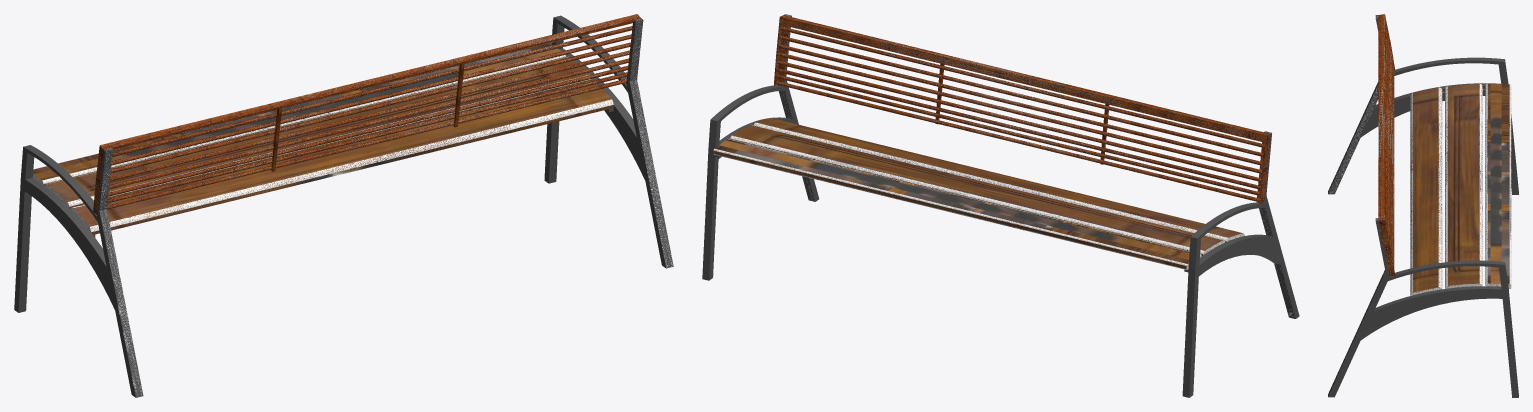
The picture shows the model from 3 angles, left to right: view 1: azimuth 30°, elevation 25°; view 2: azimuth 150°, elevation 25°; view 3: azimuth 270°, elevation 25°; orthographic projection. The views are drawn at different scales.
Parts seen in each view (by area): view 1: mesh2_mesh2-geometry, mesh3_mesh3-geometry, mesh7_mesh7-geometry, mesh4_mesh4-geometry, mesh6_mesh6-geometry, mesh8_mesh8-geometry, mesh5_mesh5-geometry, mesh1_mesh1-geometry; view 2: mesh2_mesh2-geometry, mesh5_mesh5-geometry, mesh3_mesh3-geometry, mesh6_mesh6-geometry, mesh7_mesh7-geometry, mesh4_mesh4-geometry, mesh8_mesh8-geometry; view 3: mesh2_mesh2-geometry, mesh5_mesh5-geometry, mesh4_mesh4-geometry, mesh6_mesh6-geometry, mesh7_mesh7-geometry, mesh8_mesh8-geometry.
Part boxes in pixels (x1=…): mesh2_mesh2-geometry: x1=14, y1=14, x2=673, y2=397; mesh3_mesh3-geometry: x1=112, y1=26, x2=632, y2=156; mesh7_mesh7-geometry: x1=108, y1=66, x2=628, y2=196; mesh4_mesh4-geometry: x1=110, y1=50, x2=629, y2=181; mesh6_mesh6-geometry: x1=111, y1=34, x2=631, y2=165; mesh8_mesh8-geometry: x1=109, y1=58, x2=628, y2=189; mesh5_mesh5-geometry: x1=110, y1=42, x2=630, y2=173; mesh1_mesh1-geometry: x1=271, y1=63, x2=464, y2=171; mesh2_mesh2-geometry: x1=702, y1=14, x2=1299, y2=397; mesh5_mesh5-geometry: x1=778, y1=44, x2=1262, y2=165; mesh3_mesh3-geometry: x1=780, y1=26, x2=1264, y2=147; mesh6_mesh6-geometry: x1=779, y1=35, x2=1263, y2=156; mesh7_mesh7-geometry: x1=776, y1=68, x2=1260, y2=189; mesh4_mesh4-geometry: x1=778, y1=52, x2=1261, y2=173; mesh8_mesh8-geometry: x1=777, y1=60, x2=1261, y2=181; mesh2_mesh2-geometry: x1=1328, y1=14, x2=1518, y2=397; mesh5_mesh5-geometry: x1=1388, y1=37, x2=1389, y2=241; mesh4_mesh4-geometry: x1=1389, y1=44, x2=1390, y2=246; mesh6_mesh6-geometry: x1=1386, y1=30, x2=1387, y2=232; mesh7_mesh7-geometry: x1=1391, y1=57, x2=1392, y2=259; mesh8_mesh8-geometry: x1=1390, y1=51, x2=1391, y2=251.
Size of the model in its own units: 0.8714 by 0.3519 by 0.3417.
